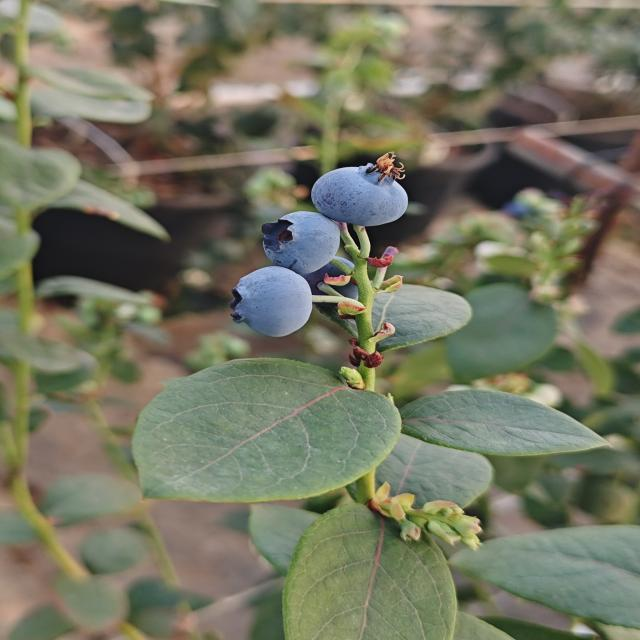ripe: (305, 161, 416, 228), (224, 264, 316, 339), (250, 205, 346, 276), (301, 252, 372, 320)
